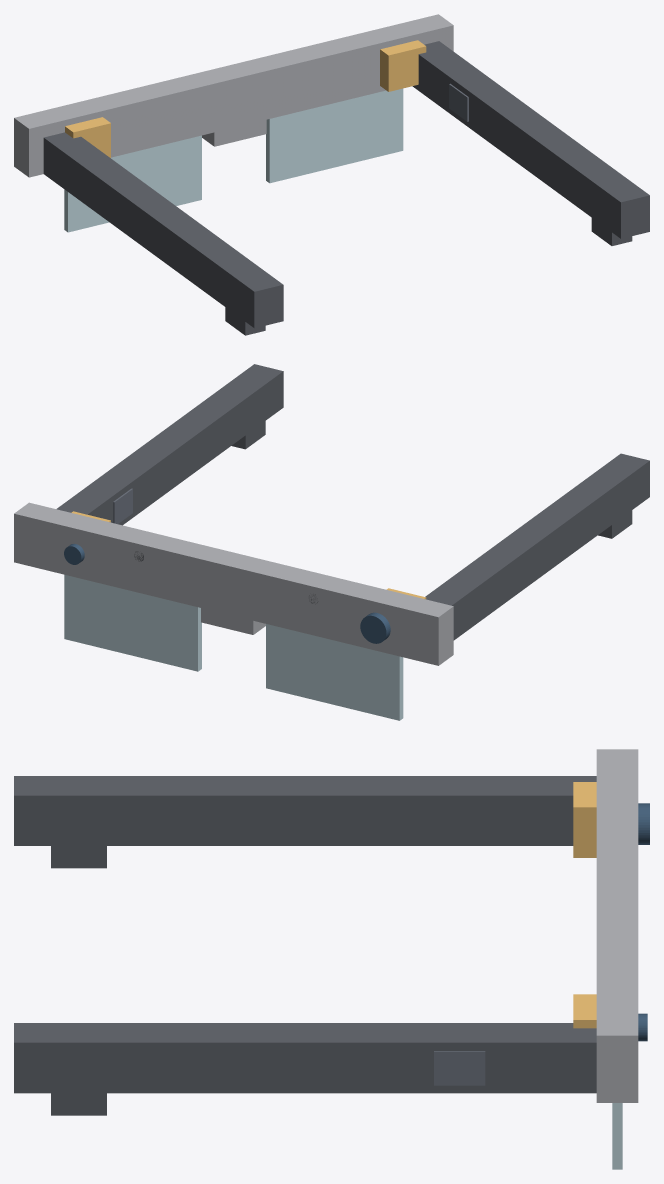
File: x3pro.glb
3 views of the same model, one above another, from view 1: azimuth 30°, elevation 25°; view 2: azimuth 150°, elevation 25°; view 3: azimuth 270°, elevation 25° (orthographic). The views are drawn at different scales.
Parts seen in each view (by area): view 1: frame-front, temple-L, temple-R, waveguide-R, waveguide-L, microLED-engine-R, microLED-engine-L, bridge, Snapdragon-AR1-Gen-1, speaker-R; view 2: frame-front, temple-L, temple-R, waveguide-L, waveguide-R, bridge, RGB-camera-12-MP, Snapdragon-AR1-Gen-1; view 3: temple-R, temple-L, frame-front, microLED-engine-L, Snapdragon-AR1-Gen-1, speaker-L, speaker-R, microLED-engine-R, waveguide-R.
Boxes of the visible parts, bbox=[...] form: frame-front: bbox=[14, 14, 453, 177]; temple-L: bbox=[43, 132, 283, 328]; temple-R: bbox=[412, 41, 649, 238]; waveguide-R: bbox=[266, 88, 403, 183]; waveguide-L: bbox=[64, 135, 201, 232]; microLED-engine-R: bbox=[380, 40, 426, 91]; microLED-engine-L: bbox=[65, 117, 110, 157]; bridge: bbox=[202, 119, 266, 146]; Snapdragon-AR1-Gen-1: bbox=[449, 83, 468, 121]; speaker-R: bbox=[591, 218, 632, 245]; frame-front: bbox=[14, 502, 453, 665]; temple-L: bbox=[425, 453, 649, 640]; temple-R: bbox=[56, 364, 283, 525]; waveguide-L: bbox=[266, 624, 403, 720]; waveguide-R: bbox=[64, 574, 201, 671]; bridge: bbox=[201, 608, 265, 634]; RGB-camera-12-MP: bbox=[360, 612, 390, 643]; Snapdragon-AR1-Gen-1: bbox=[113, 488, 132, 524]; temple-R: bbox=[14, 1023, 596, 1093]; temple-L: bbox=[14, 776, 596, 845]; frame-front: bbox=[596, 749, 638, 1102]; microLED-engine-L: bbox=[573, 782, 596, 857]; Snapdragon-AR1-Gen-1: bbox=[434, 1051, 485, 1085]; speaker-L: bbox=[51, 846, 106, 868]; speaker-R: bbox=[51, 1093, 106, 1115]; microLED-engine-R: bbox=[573, 994, 596, 1028]; waveguide-R: bbox=[612, 1103, 622, 1169].
Bounding box in the file's own units: 0.146 × 0.039 × 0.137.
